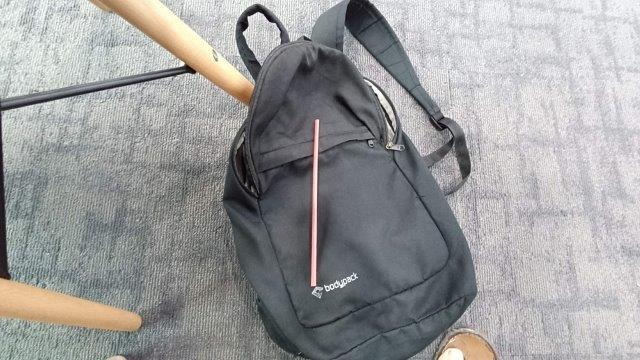sedotan: (311, 119, 319, 286)
